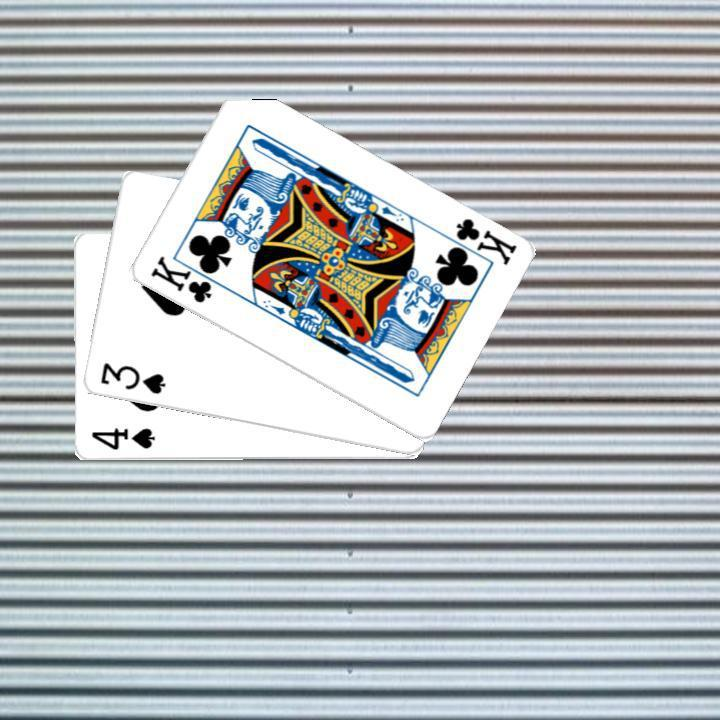3: (95, 359, 167, 397)
4: (86, 424, 156, 453)
K: (436, 213, 518, 269), (145, 251, 226, 305)
